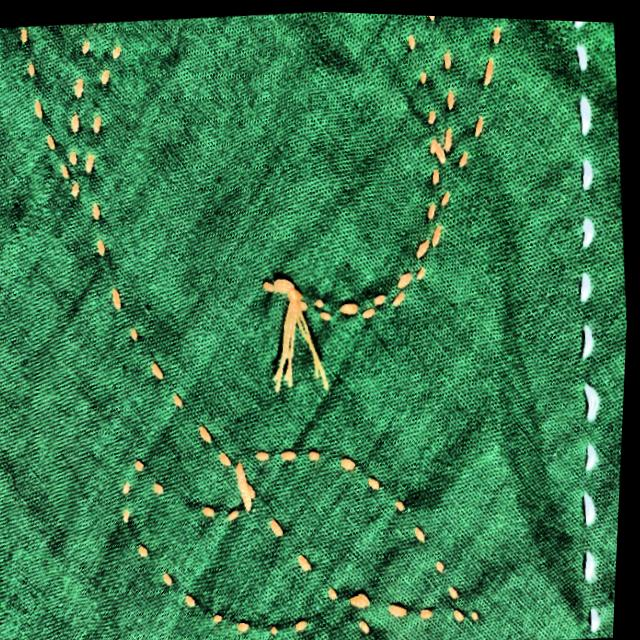Stitch: (242, 238, 348, 412)
